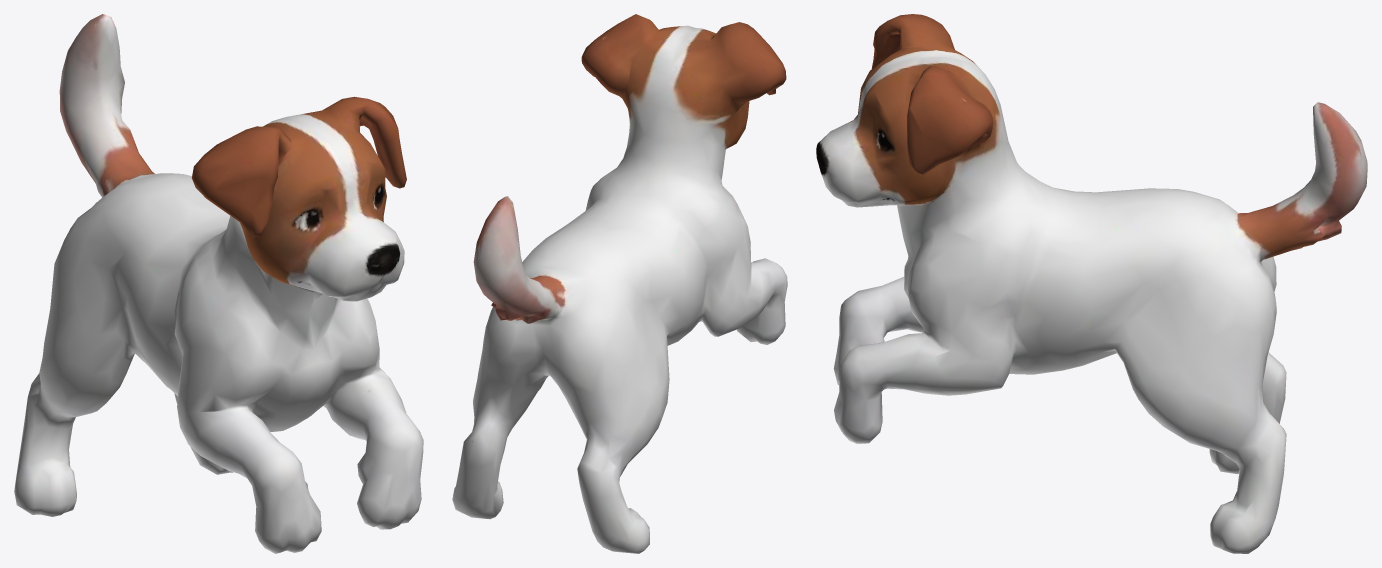
The model's file is detail_3_lo2.glb.
The picture shows the model from 3 angles, left to right: view 1: azimuth 30°, elevation 25°; view 2: azimuth 150°, elevation 25°; view 3: azimuth 270°, elevation 25°; orthographic projection. The views are drawn at different scales.
Parts seen in each view (by area): view 1: Mesh_0.001; view 2: Mesh_0.001; view 3: Mesh_0.001.
Part boxes in pixels (x1,y1,x2,y2): Mesh_0.001: (14, 14, 423, 553); Mesh_0.001: (452, 14, 787, 553); Mesh_0.001: (816, 14, 1367, 553).
Size of the model in its own units: 0.4607 by 0.9421 by 1.01.
1 material, 1 textured.
